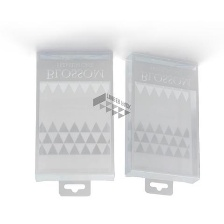plastic_box: (28, 43, 118, 204), (119, 47, 205, 201)
